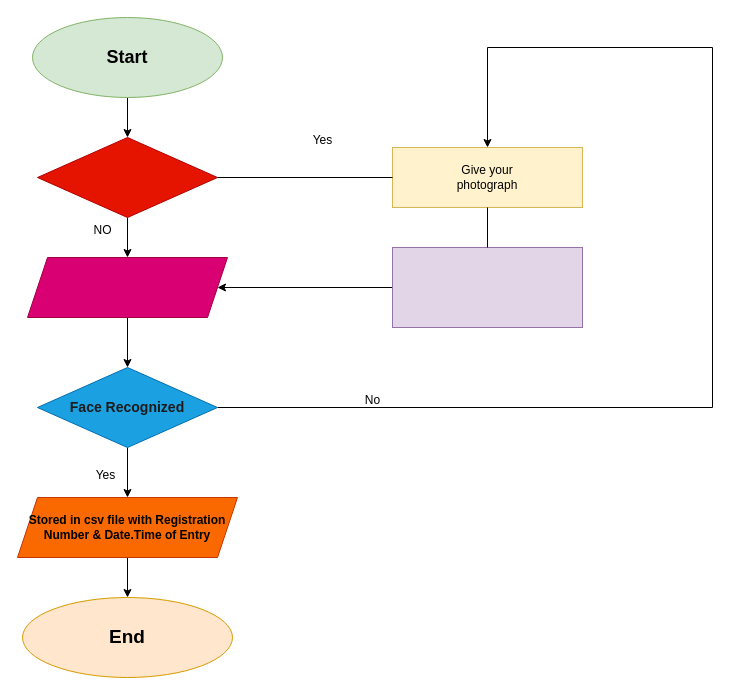
The diagram is 738 pixels wide and 695 high, and some of its shapes have lost their labels. Here are the shapes that lost their labels. From the top down, the centre of each, then its label:
At point 127,177: "New user? run create_dataset.py".
At point 127,287: "Recognize the face run face_recognize.py".
